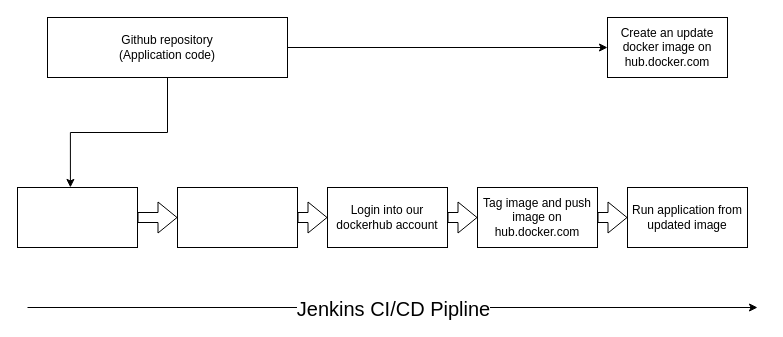
Image size: 783x337. Some labels were removed from this diagram. The centre of each missing label's shape, as x and y in pixels:
"Build the Dockerfile" goes at point (237, 217).
"Clone the github repo" goes at point (77, 217).
